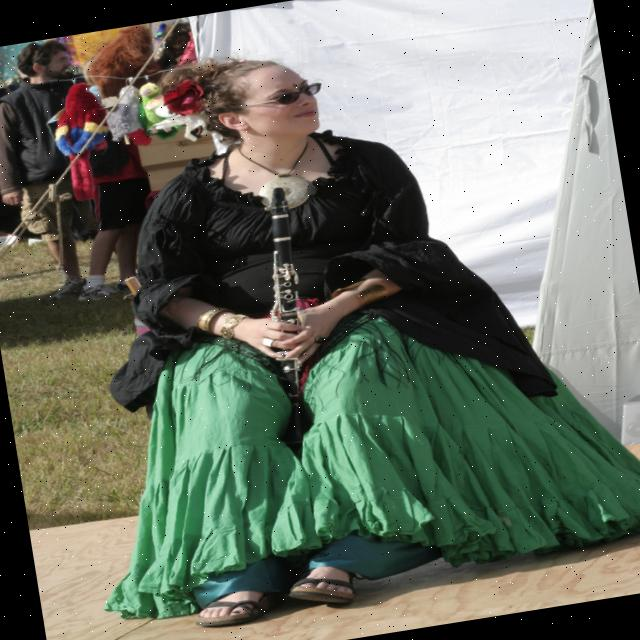clarinet: (222, 182, 328, 400)
